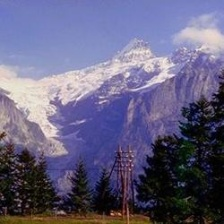neutral: (1, 12, 224, 223)
